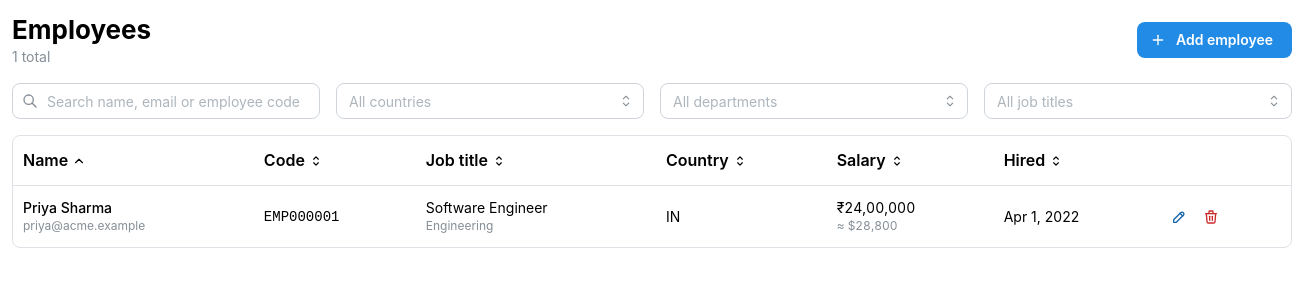
Test: EmployeesPage › sends the search term to the API and shows the empty state
Expected: the text "Priya Sharma" is shown, [23,199,112,216]
Type "zzz" into the field named "Search employees" at (166, 101), box [12,83,320,119]
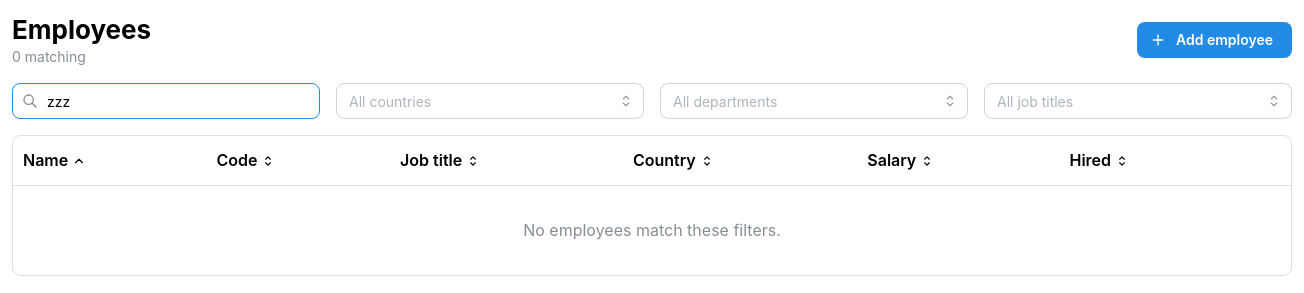
Expected: the text "No employees match these filters." is shown, [523,220,781,240]
